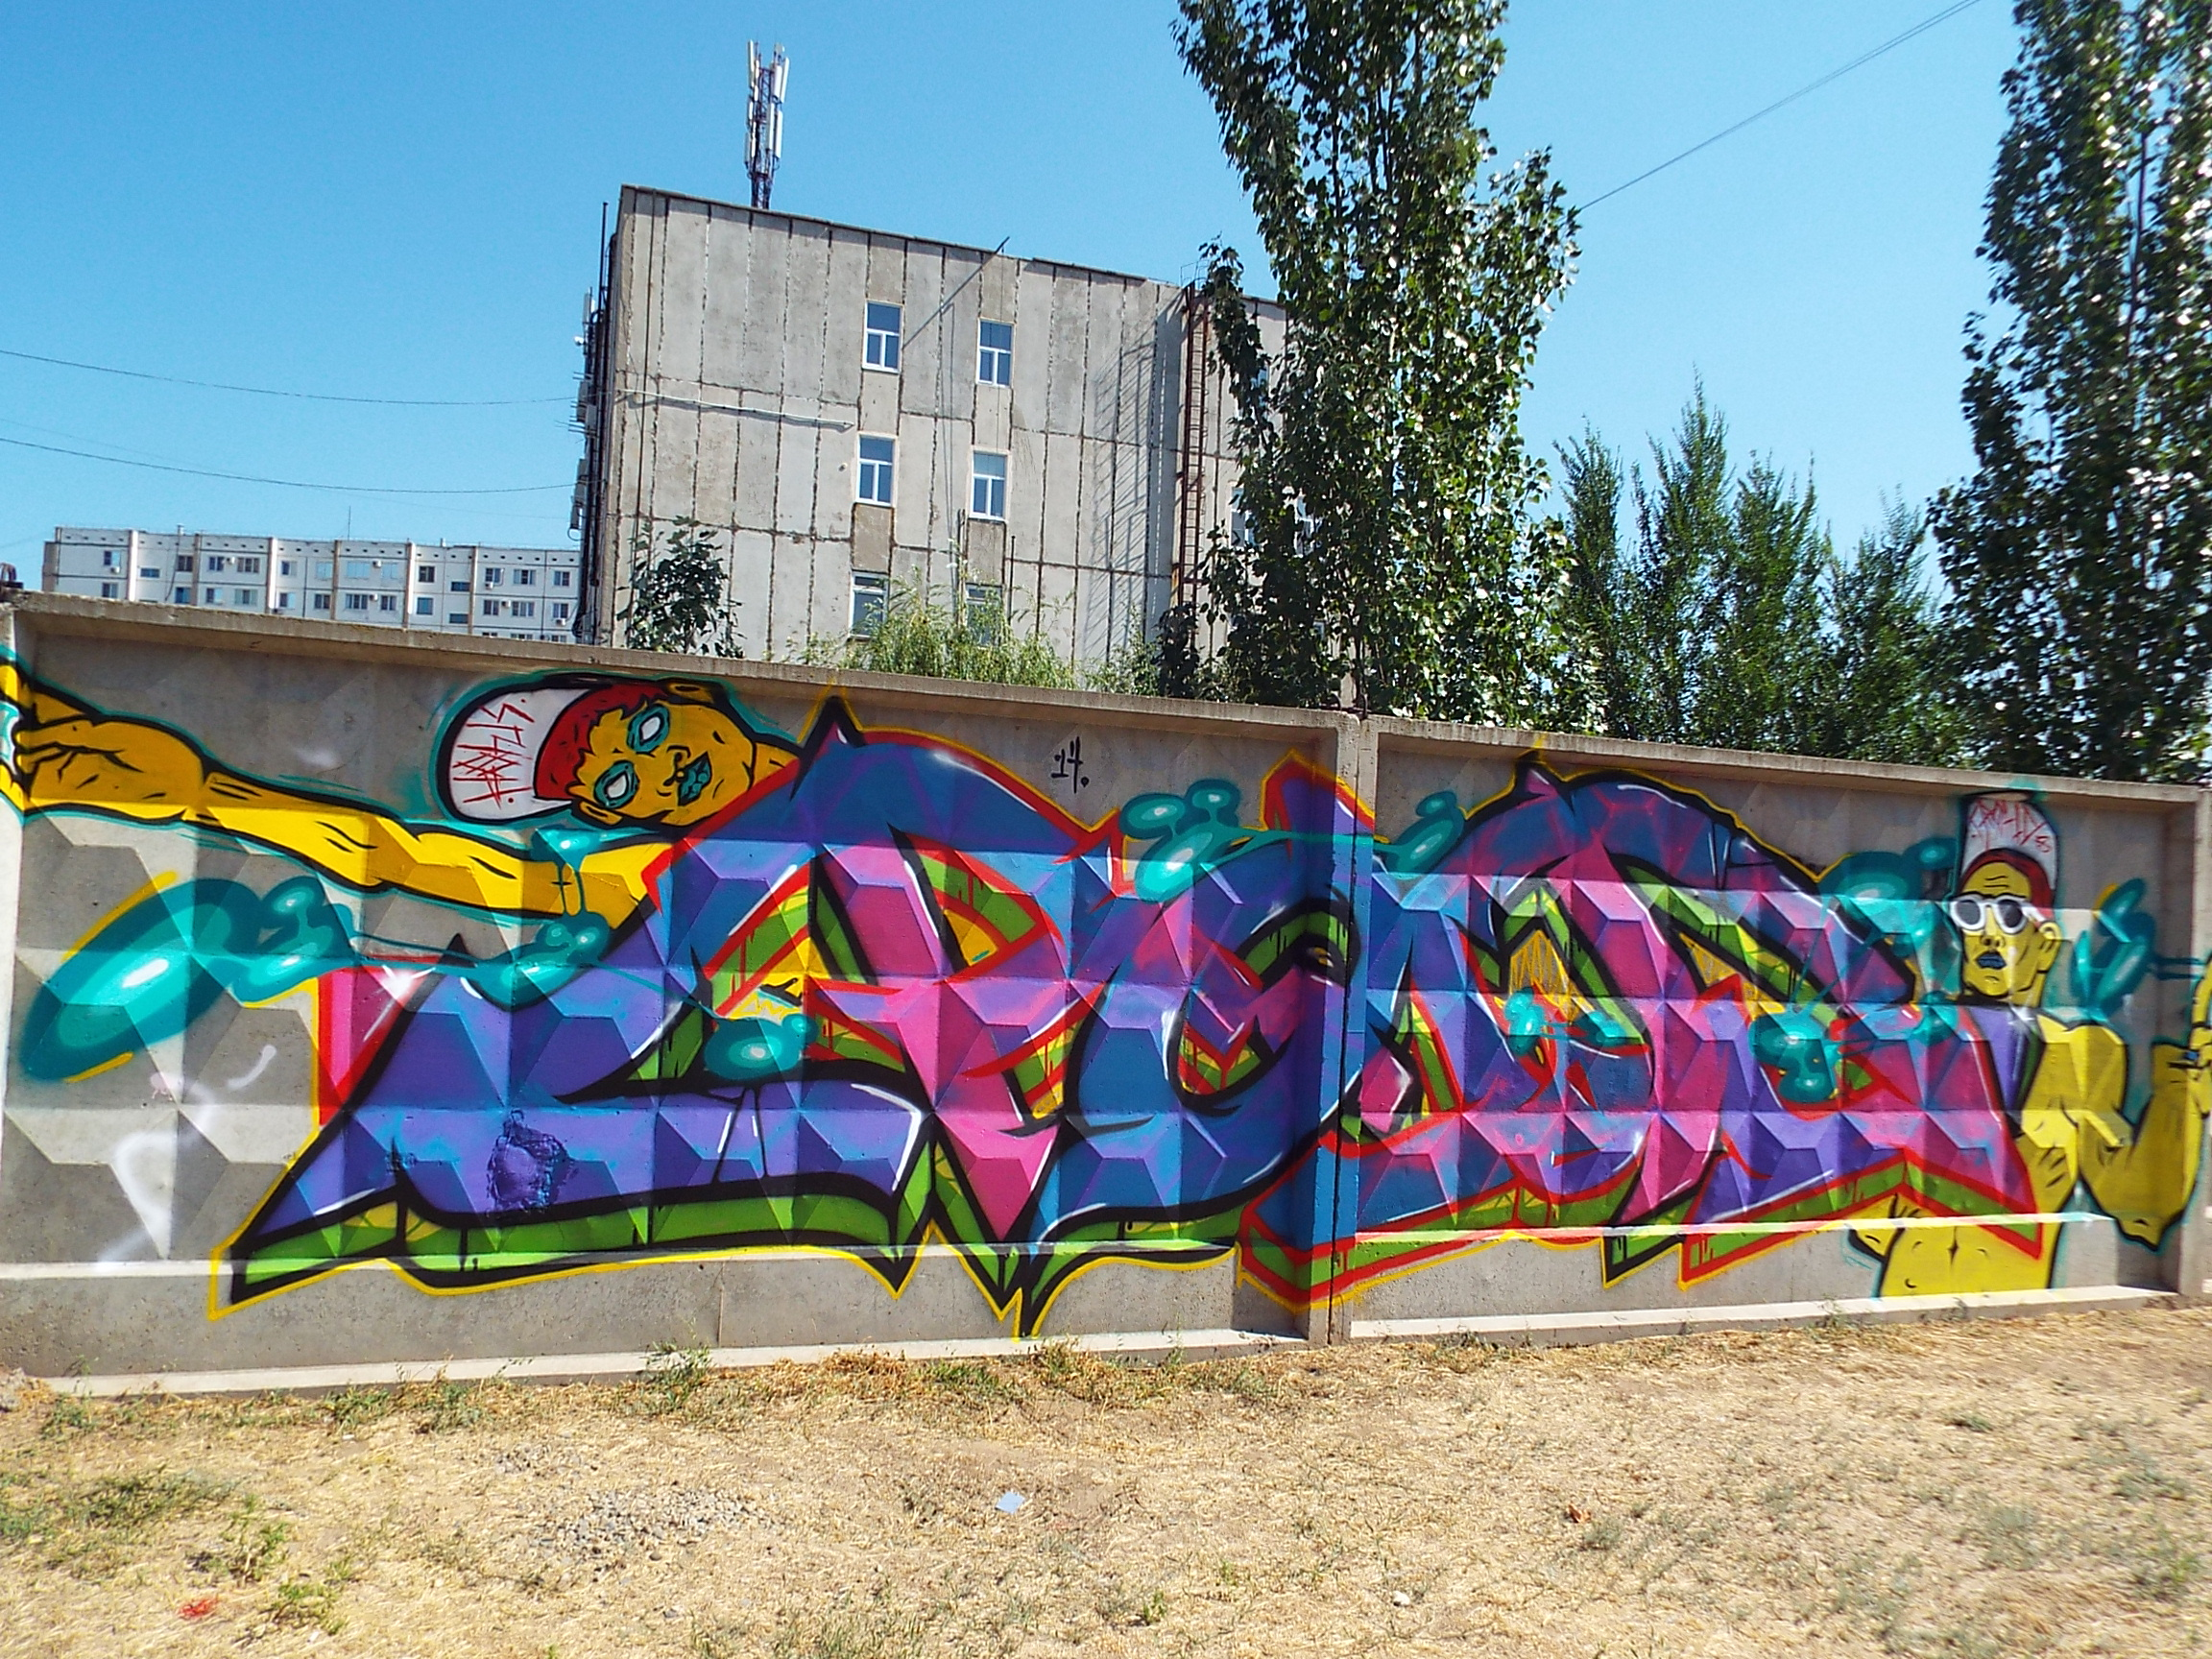graphite: (21, 615, 2212, 1317)
